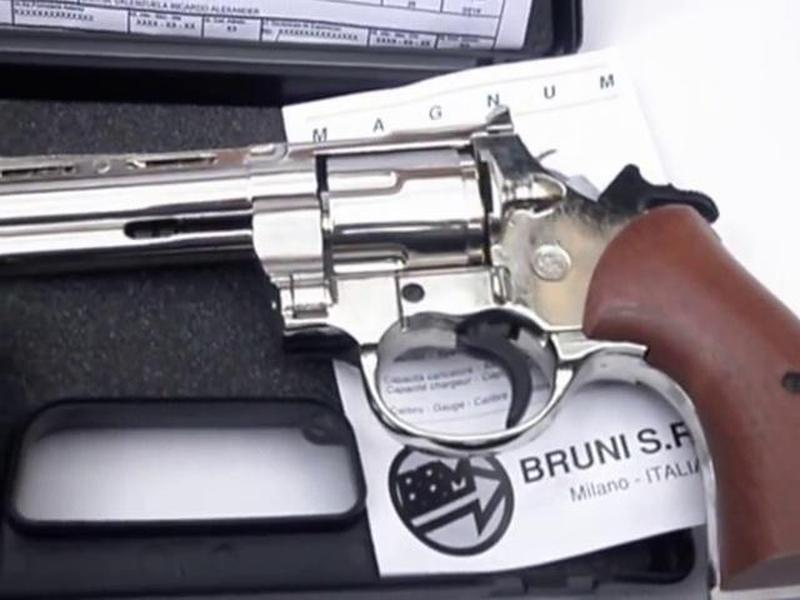Revolver: (31, 95, 738, 496)
